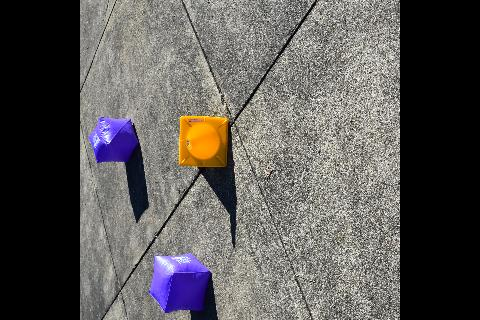cone: (178, 114, 229, 166)
cube: (148, 254, 212, 312), (90, 117, 138, 161)
